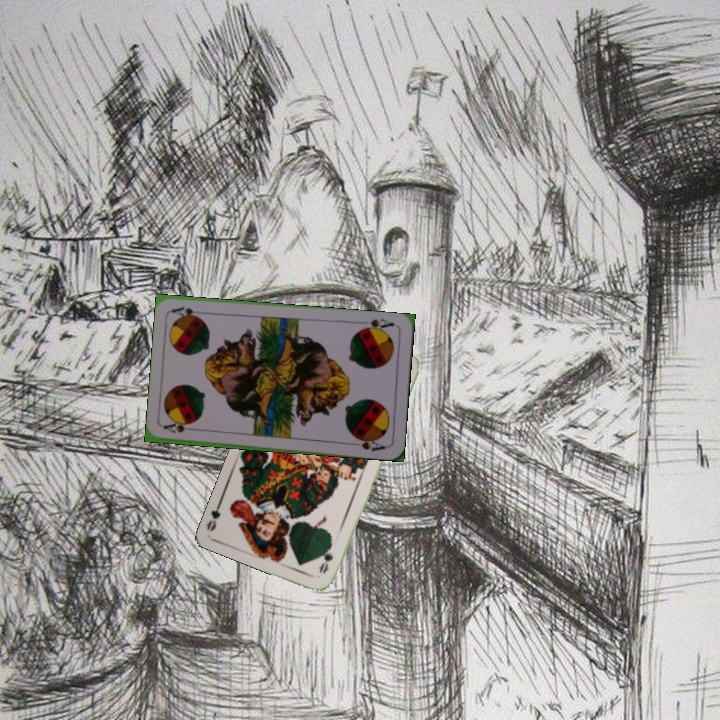GO: (315, 538, 336, 577)
SA: (357, 314, 397, 335), (160, 419, 191, 436)
